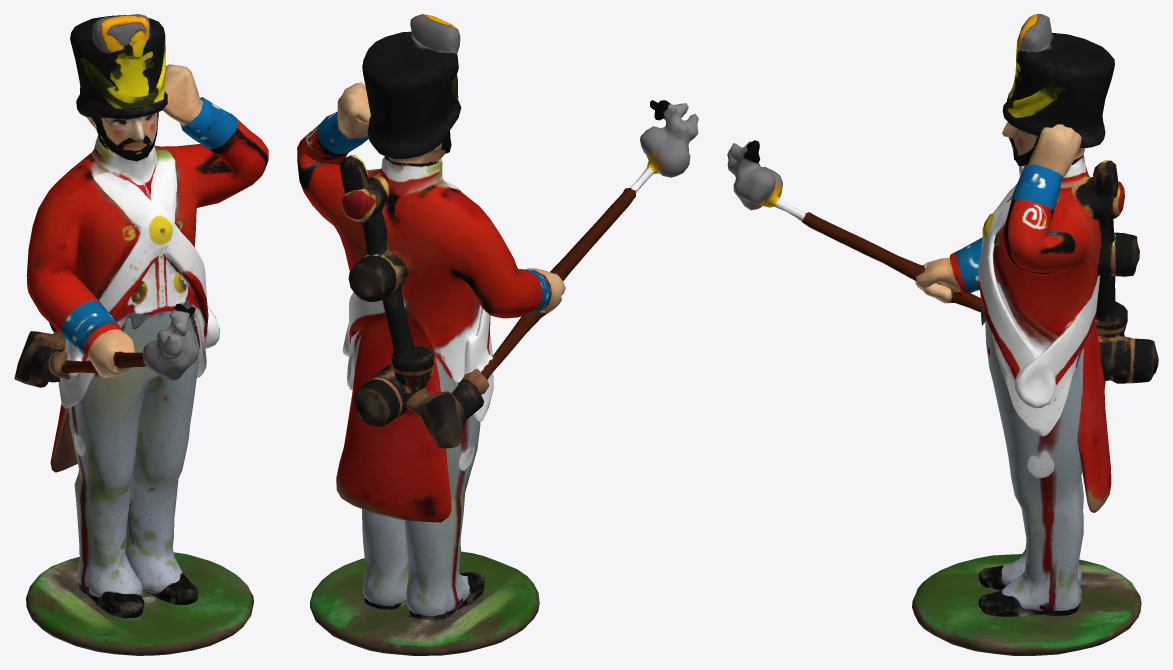
Rendered from gunner_fire.glb.
3 renders of one model, left to right at view 1: azimuth 30°, elevation 25°; view 2: azimuth 150°, elevation 25°; view 3: azimuth 270°, elevation 25°, orthographic. The views are drawn at different scales.
Parts seen in each view (by area): view 1: world; view 2: world; view 3: world.
Boxes of the visible parts, x1,y1,x2,y2 form: world: [14, 14, 268, 655]; world: [297, 14, 698, 655]; world: [727, 14, 1158, 655].
Size of the model in its own units: 0.4505 by 1 by 0.6695.
1 material, 1 textured.
